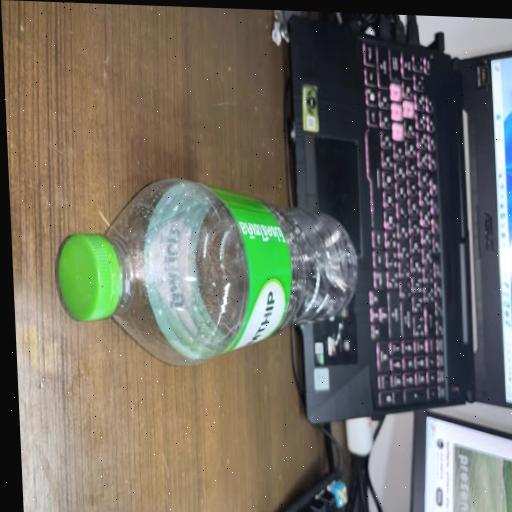ba: (46, 162, 367, 379)
